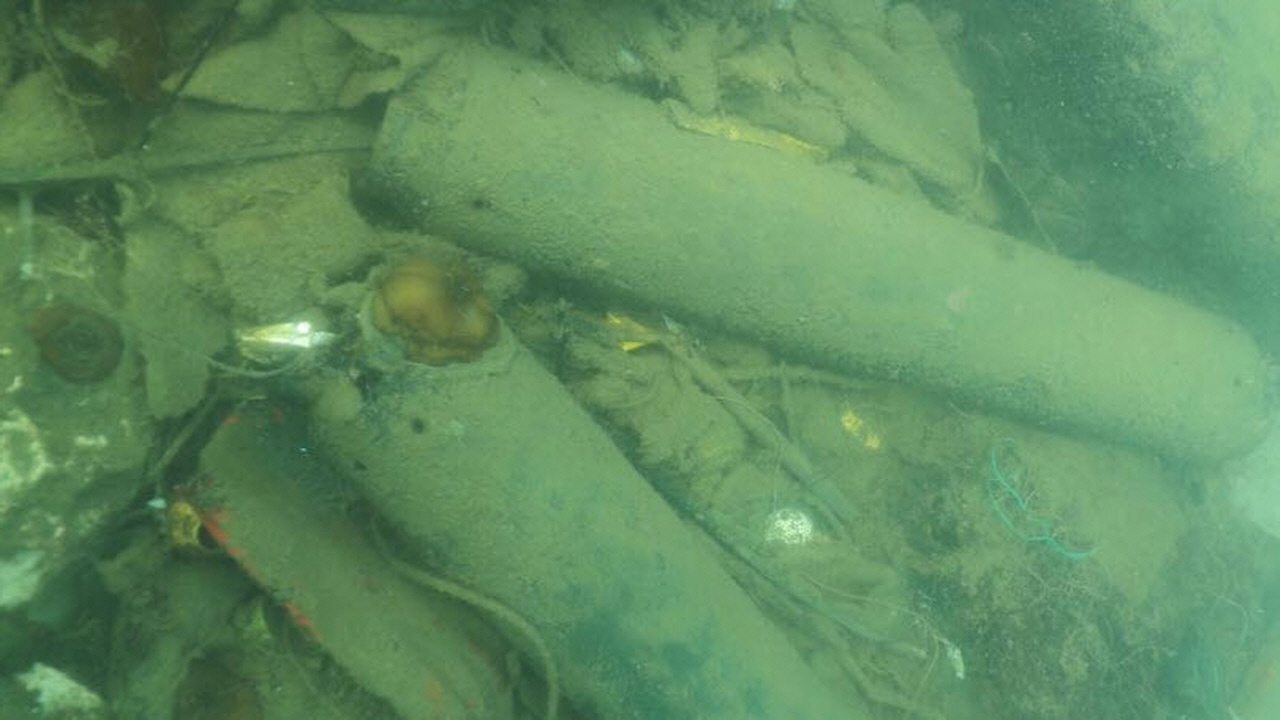eel fish trap: (353, 42, 1270, 467), (306, 308, 850, 720)
